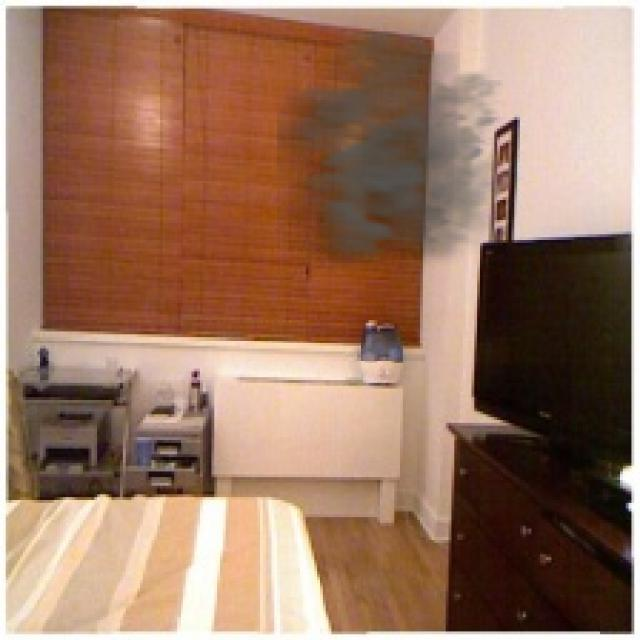Smoke: (277, 31, 529, 280)
